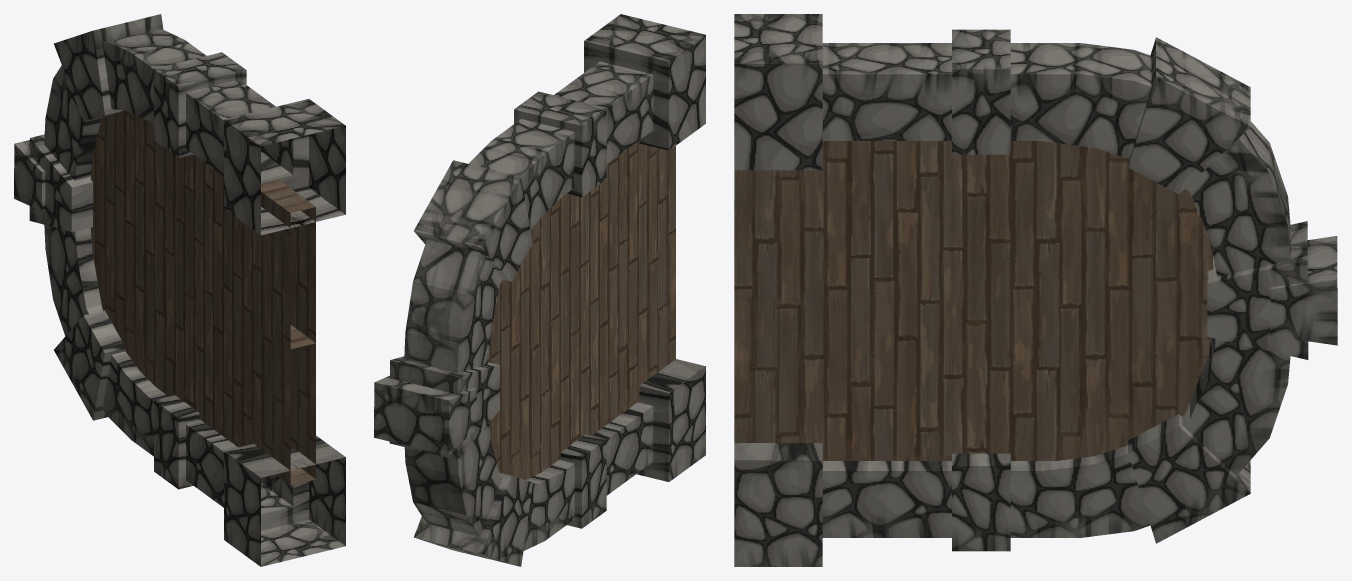
Rendered from puerta.obj.
3 renders of one model, left to right at view 1: azimuth 30°, elevation 25°; view 2: azimuth 150°, elevation 25°; view 3: azimuth 270°, elevation 25°, orthographic. The views are drawn at different scales.
Visible parts, largest first — view 1: puerta:polySurface8, puerta:polySurface5; view 2: puerta:polySurface8, puerta:polySurface5; view 3: puerta:polySurface5, puerta:polySurface8.
Boxes of the visible parts, x1,y1,x2,y2 form: puerta:polySurface8: (14,14,345,566); puerta:polySurface5: (90,110,315,485); puerta:polySurface8: (374,14,705,566); puerta:polySurface5: (488,141,675,479); puerta:polySurface5: (734,141,1212,460); puerta:polySurface8: (734,14,1337,566).
Bounding box in the file's own units: 0.4249 × 2.01 × 2.18.
2 materials, 2 textured.
